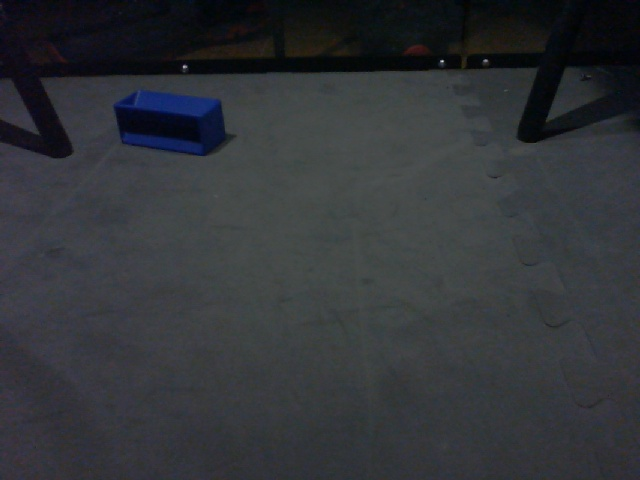BlueSample: (112, 87, 232, 160)
